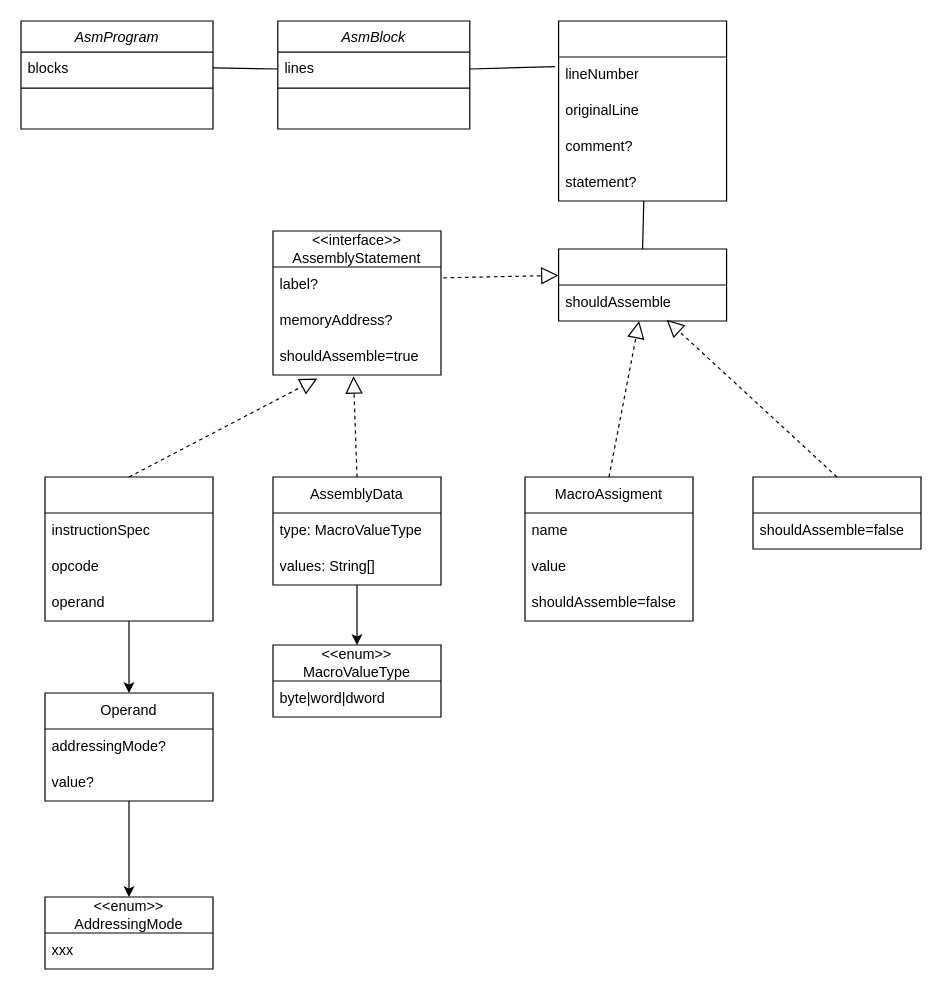
Image size: 942x990. Some labels were removed from this diagram. The box of each missing label's shape, as (x1, y1, x2, y2) in pixels:
<<interface>> Statement: (557, 248, 727, 321)
AsmProgramLine: (557, 20, 727, 201)
AssemblyInstruction: (44, 476, 213, 621)
MacroInstruction: (752, 476, 921, 549)
